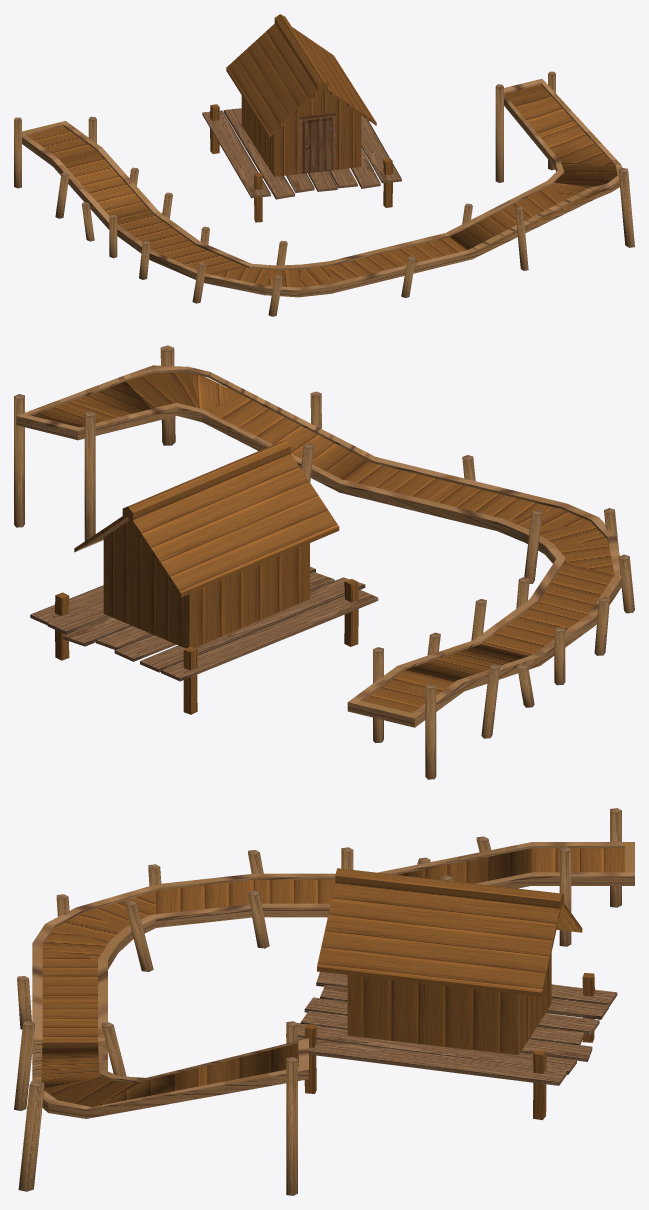
Rendered from cASA+pONTE.fbx.
3 renders of one model, top to bottom at view 1: azimuth 30°, elevation 25°; view 2: azimuth 150°, elevation 25°; view 3: azimuth 270°, elevation 25°, orthographic. The views are drawn at different scales.
Parts seen in each view (by area): view 1: defaultMaterial.013, defaultMaterial.014; view 2: defaultMaterial.013, defaultMaterial.014; view 3: defaultMaterial.014, defaultMaterial.013.
Boxes of the visible parts, left/top/right/bottom form: defaultMaterial.013: left=14, top=71, right=634, bottom=316; defaultMaterial.014: left=202, top=14, right=401, bottom=222; defaultMaterial.013: left=14, top=345, right=634, bottom=779; defaultMaterial.014: left=30, top=440, right=378, bottom=714; defaultMaterial.014: left=286, top=868, right=617, bottom=1120; defaultMaterial.013: left=14, top=808, right=634, bottom=1195.
Bounding box in the file's own units: 11.82 × 3.48 × 10.6.
